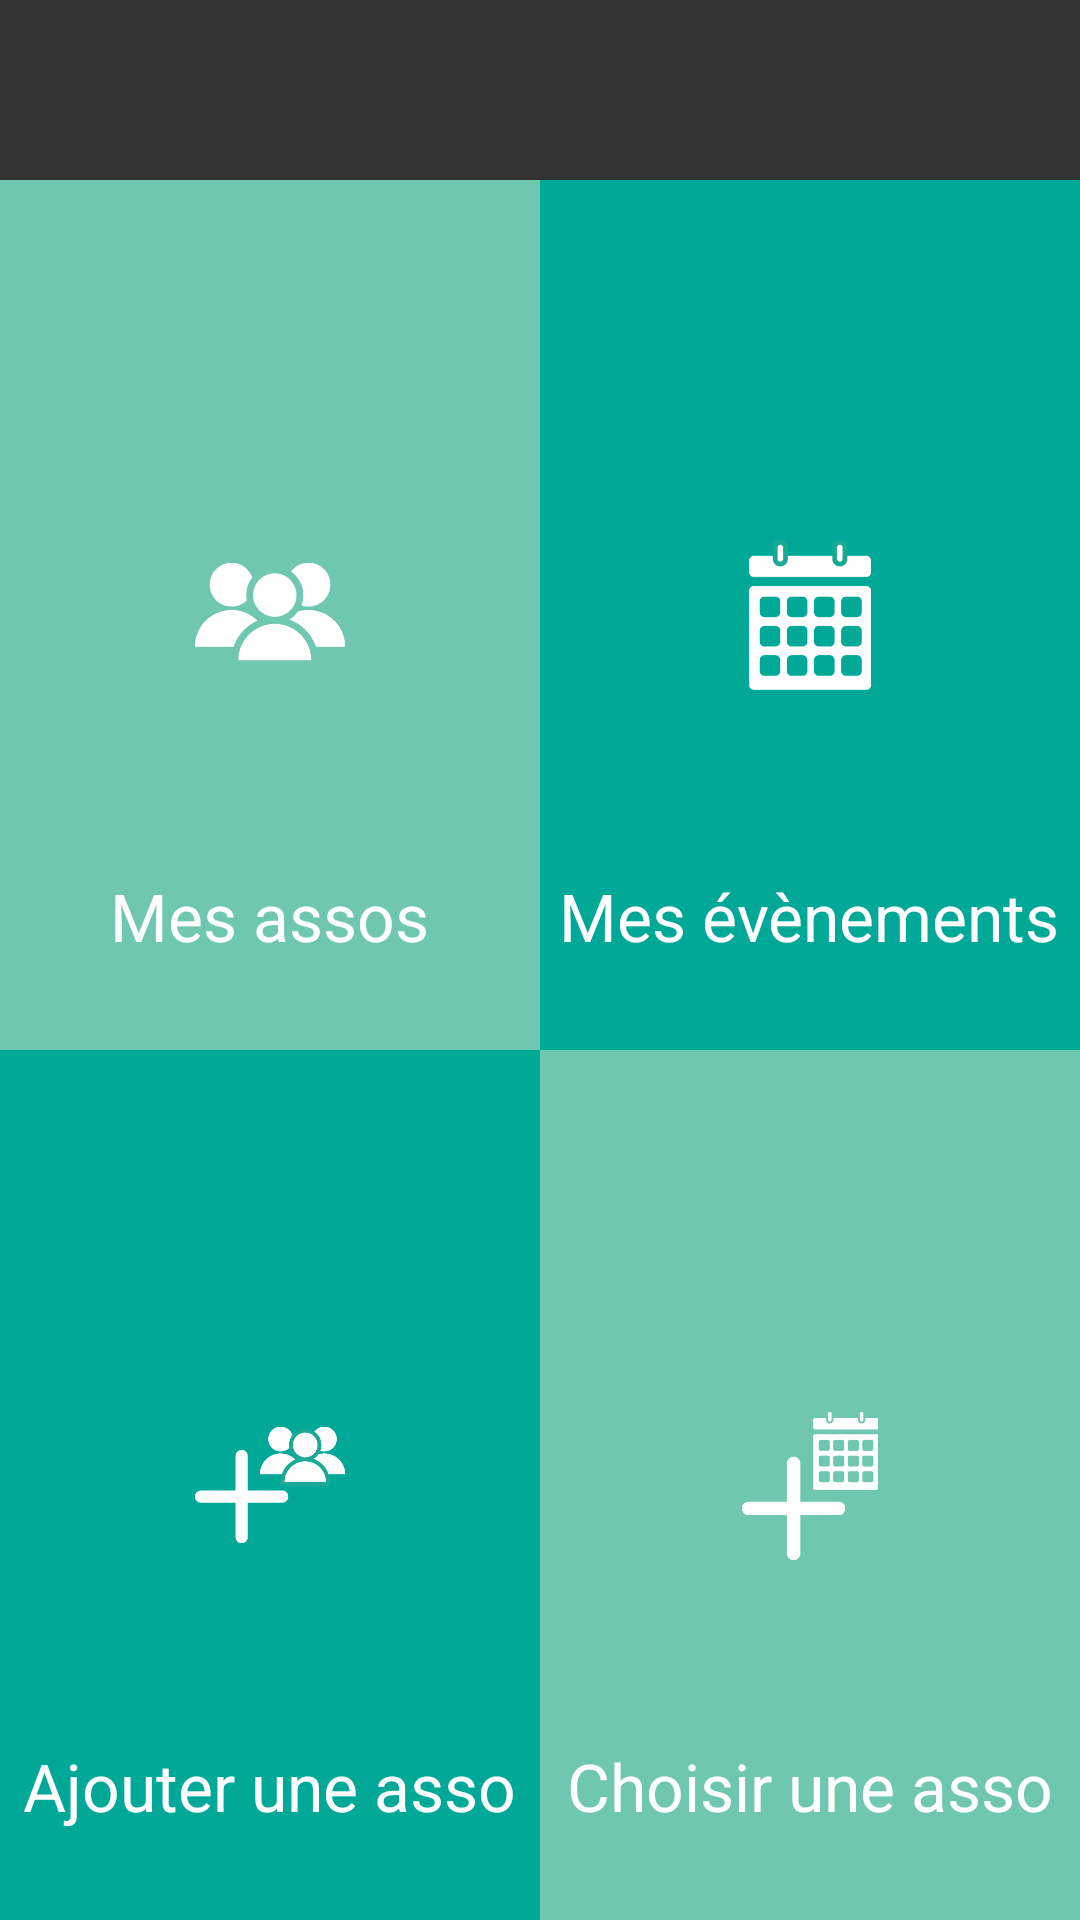

Icons on this 1080*1920 Android screen, each with the point to tap as [x,y]:
ajouter asso: [270,1485]
ajouter evenement: [810,1486]
mes assos: [270,612]
mes evenements: [810,615]
